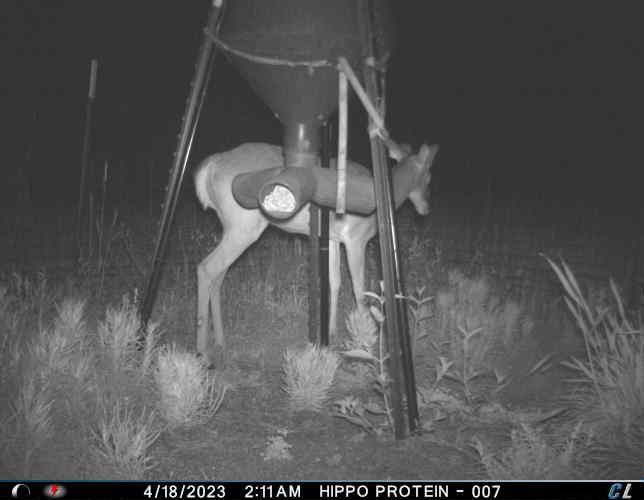Deer: (191, 136, 441, 359)
